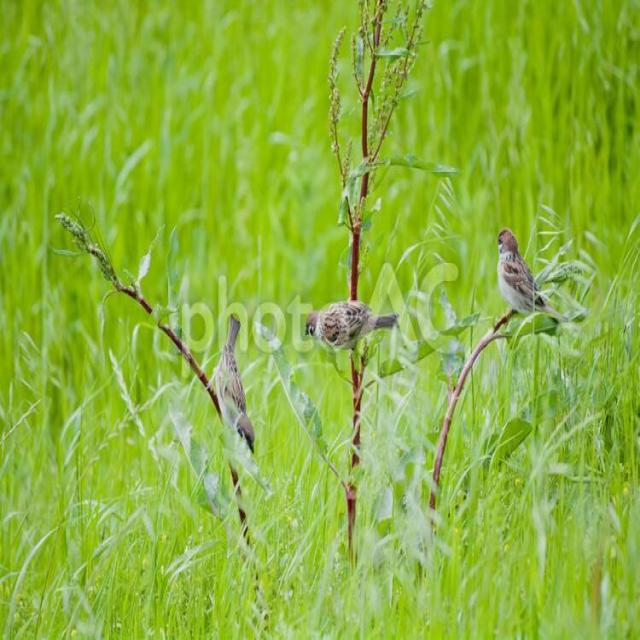bird: (493, 227, 544, 318), (304, 299, 396, 344)
